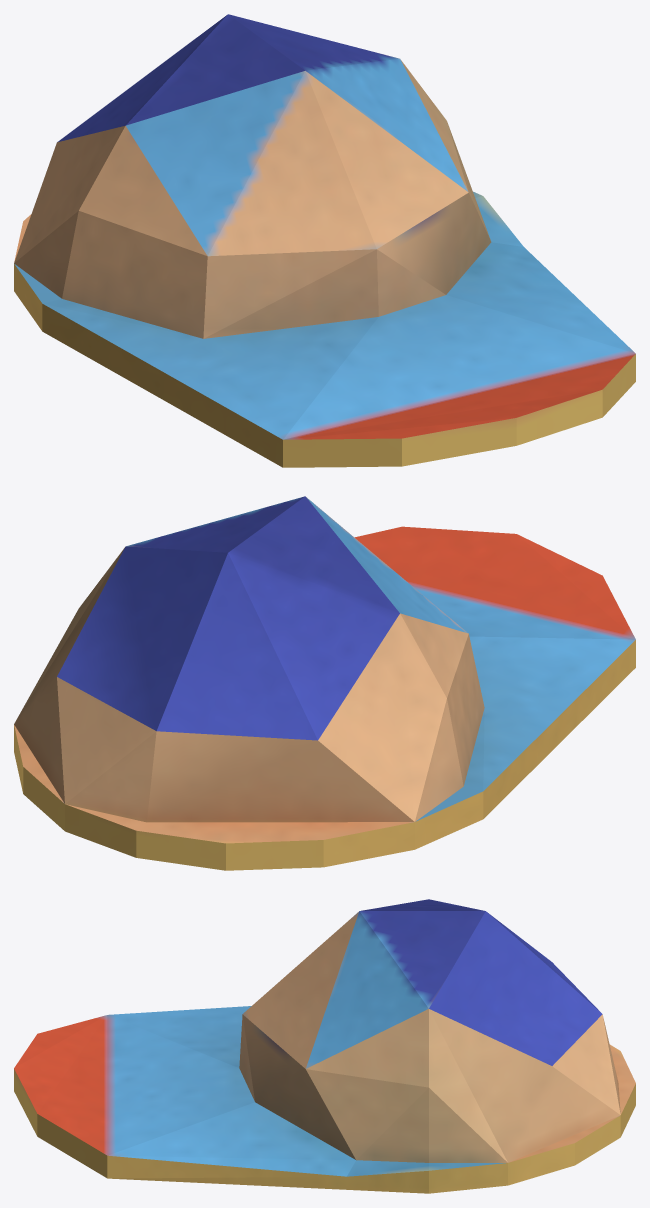
Rendered from Cab.FBX.
3 renders of one model, top to bottom at view 1: azimuth 30°, elevation 25°; view 2: azimuth 150°, elevation 25°; view 3: azimuth 270°, elevation 25°, orthographic. The views are drawn at different scales.
Visible parts, largest first — view 1: Cab; view 2: Cab; view 3: Cab.
Boxes of the visible parts, bbox=[...] form: Cab: bbox=[14, 14, 635, 467]; Cab: bbox=[14, 496, 635, 870]; Cab: bbox=[14, 899, 635, 1193].
Bounding box in the file's own units: 224 × 335 × 117.
Materials: 1 (1 with a texture image).
